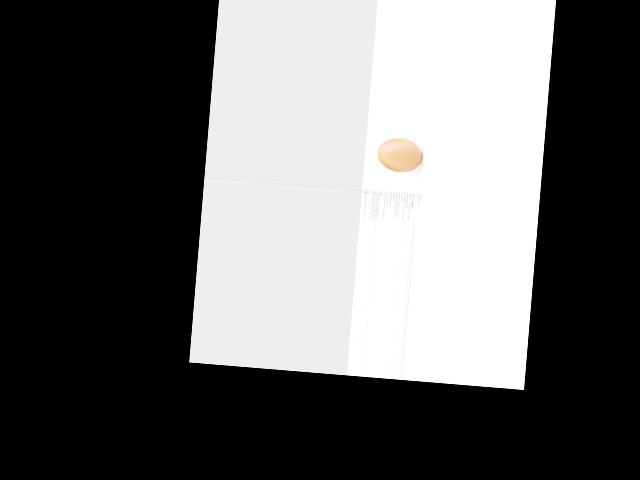egg: (376, 136, 423, 174)
